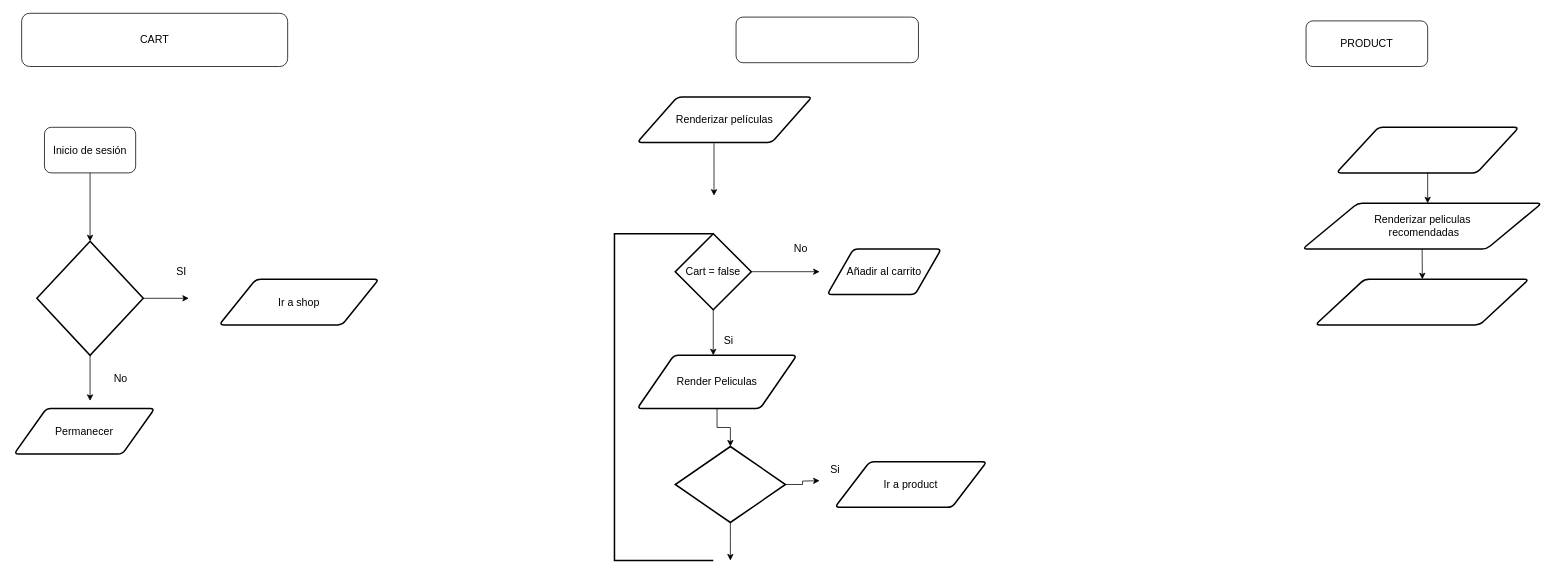
The diagram is 1555 pixels wide and 580 high, and some of its shapes have lost their labels. The shapes that lost their labels are listed below. From the top down, each one's centre as x and y in pixels, then its label:
At point (826, 39): "SHOP".
At point (1427, 149): "Renderizar Pelicula".
At point (90, 298): "User y password Correctos?".
At point (1421, 301): "Renderizar Casting".
At point (730, 484): "Detalles = true".
